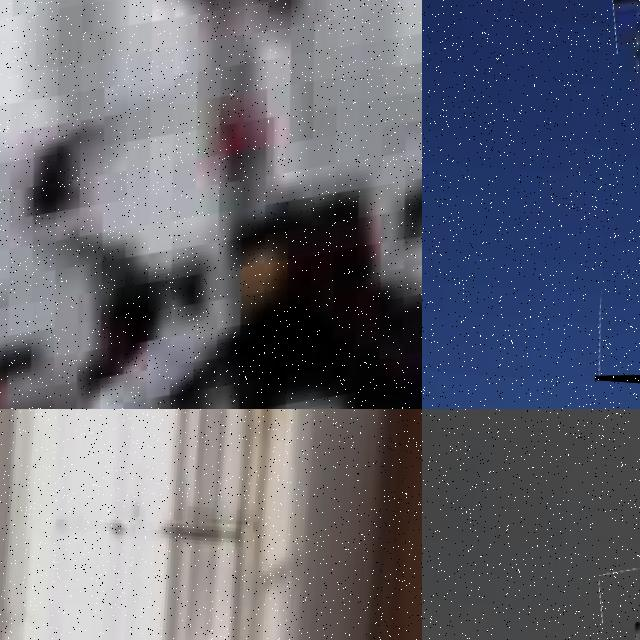drone: (0, 0, 422, 409), (594, 0, 640, 398)
